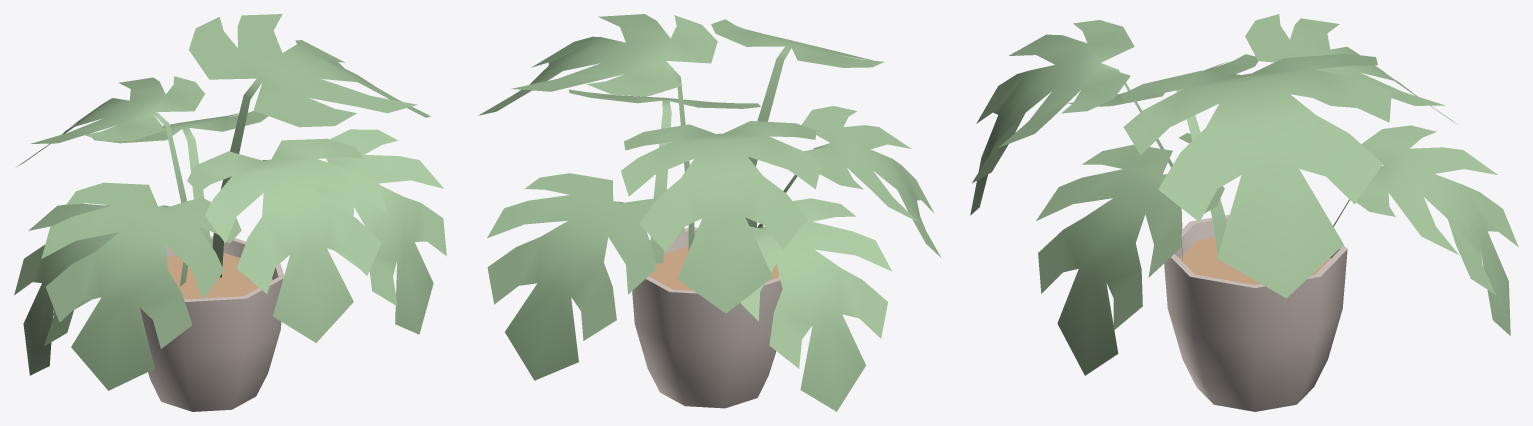
Rendered from plant-leafy.glb.
The picture shows the model from 3 angles, left to right: view 1: azimuth 30°, elevation 25°; view 2: azimuth 150°, elevation 25°; view 3: azimuth 270°, elevation 25°; orthographic projection. The views are drawn at different scales.
Parts seen in each view (by area): view 1: Houseplant_7; view 2: Houseplant_7; view 3: Houseplant_7.
Boxes of the visible parts, left/top/right/bottom form: Houseplant_7: left=14, top=14, right=446, bottom=411; Houseplant_7: left=478, top=14, right=941, bottom=411; Houseplant_7: left=970, top=14, right=1518, bottom=411.
Bounding box in the file's own units: 1.17 × 0.8818 × 1.22.
